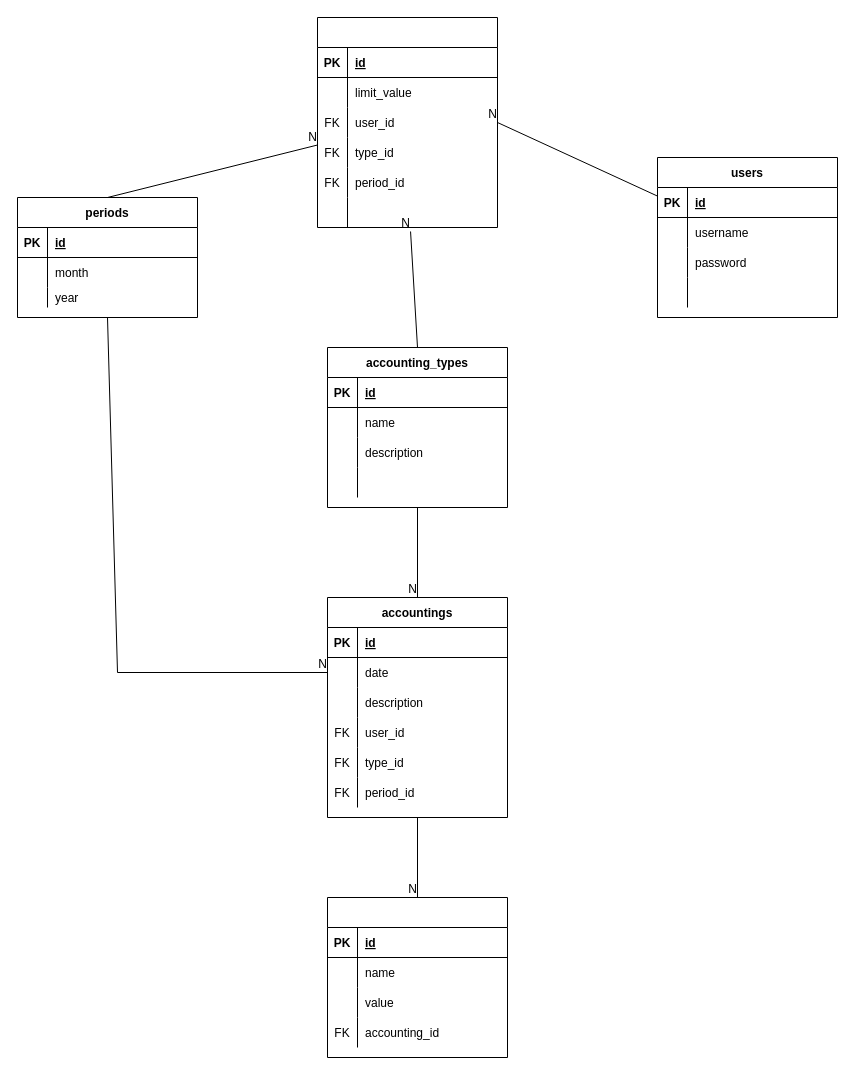
Image size: 855x1075. Some labels were removed from this diagram. The box of each missing label's shape, as (x1, y1, x2, y2) in pixels:
accounting_details: (326, 896, 508, 1058)
budgets: (316, 16, 498, 228)
